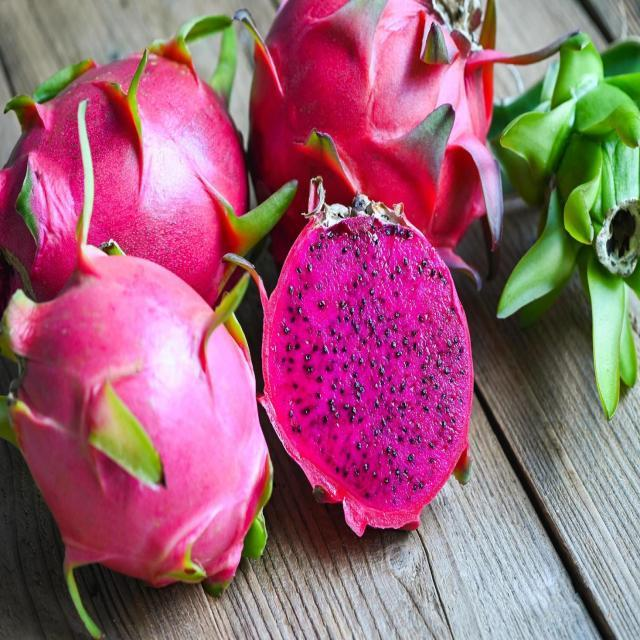dragon-fruit: (10, 252, 272, 587), (259, 211, 476, 531), (247, 0, 489, 275), (0, 51, 252, 311), (503, 79, 640, 278)
